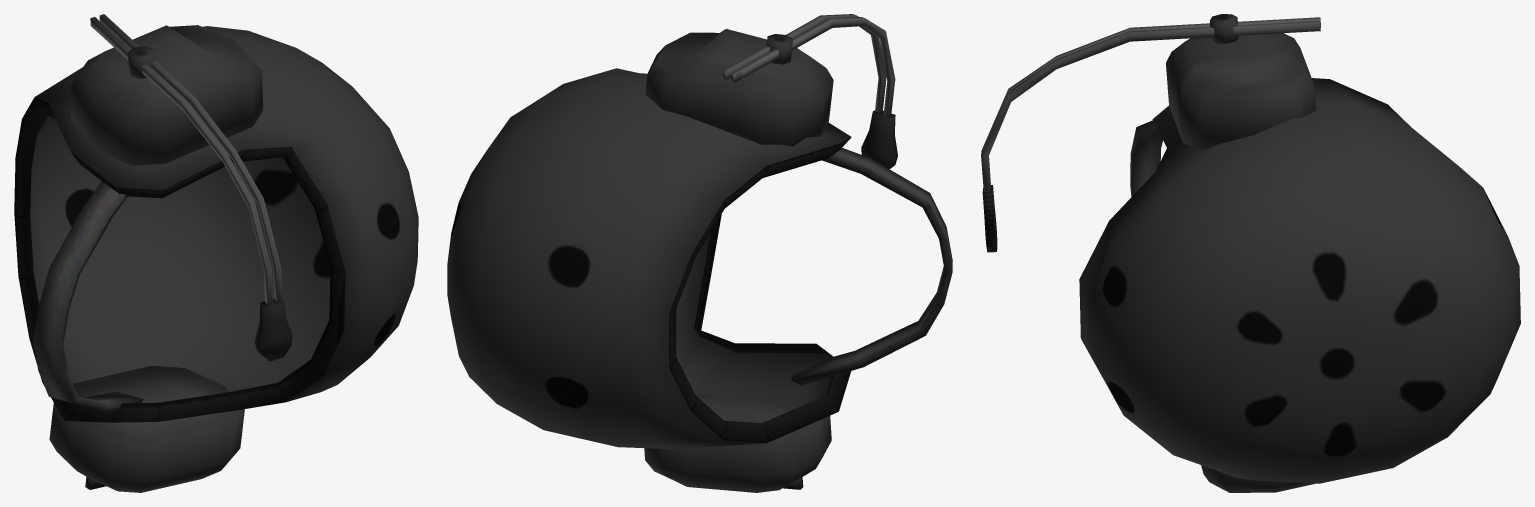
File: BumpHelmet2.fbx
The picture shows the model from 3 angles, left to right: view 1: azimuth 30°, elevation 25°; view 2: azimuth 150°, elevation 25°; view 3: azimuth 270°, elevation 25°; orthographic projection. The views are drawn at different scales.
Parts seen in each view (by area): view 1: Plane.009_Plane.001; view 2: Plane.009_Plane.001; view 3: Plane.009_Plane.001.
Boxes of the visible parts, x1=… form: Plane.009_Plane.001: x1=14, y1=14, x2=418, y2=492; Plane.009_Plane.001: x1=447, y1=14, x2=952, y2=492; Plane.009_Plane.001: x1=981, y1=14, x2=1520, y2=492.
Bounding box in the file's own units: 0.1877 × 0.1951 × 0.2159.
